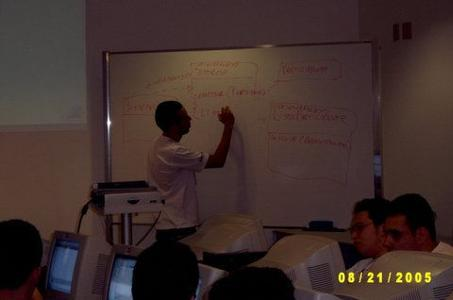person: (145, 101, 238, 246)
